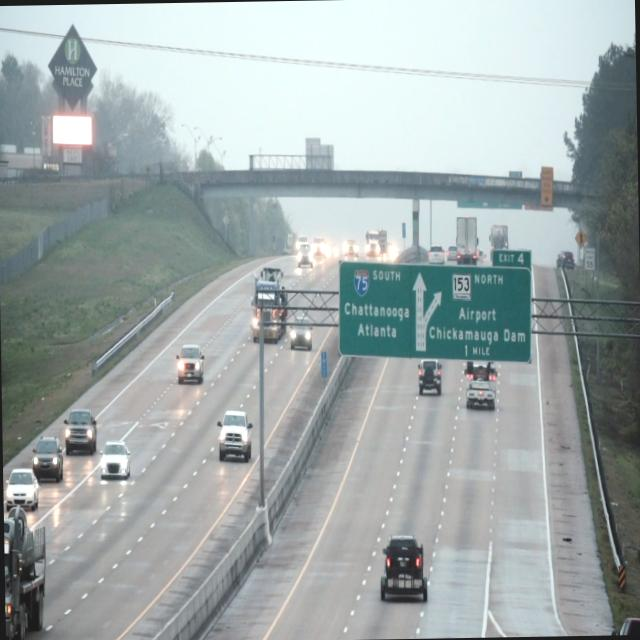Vehicle: (378, 534, 430, 602), (249, 262, 286, 342), (217, 407, 254, 467), (462, 358, 498, 413), (64, 406, 98, 455), (5, 466, 39, 512), (34, 433, 64, 482), (174, 342, 204, 386), (100, 436, 130, 479), (416, 357, 442, 400), (288, 314, 314, 350)
